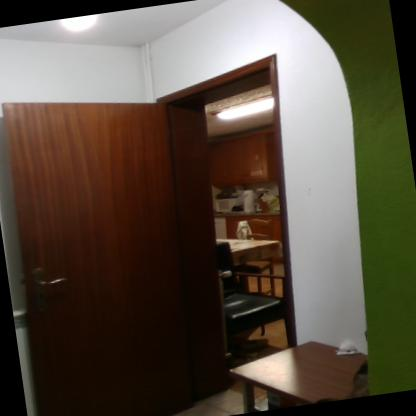open: (0, 27, 353, 415)
